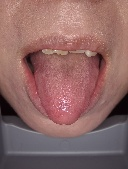tongue: (29, 58, 100, 126)
